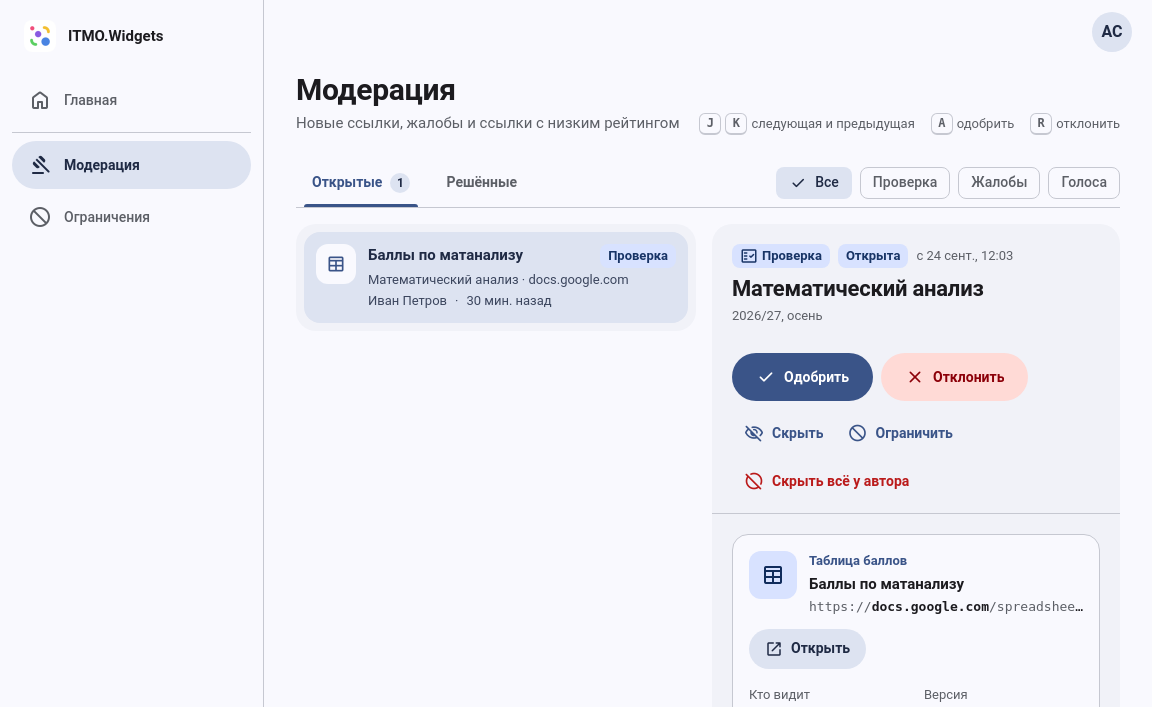
ModerationPage › rejects only with a reason
Click the button "Отклонить" at (955, 377), box [881, 353, 1028, 401]
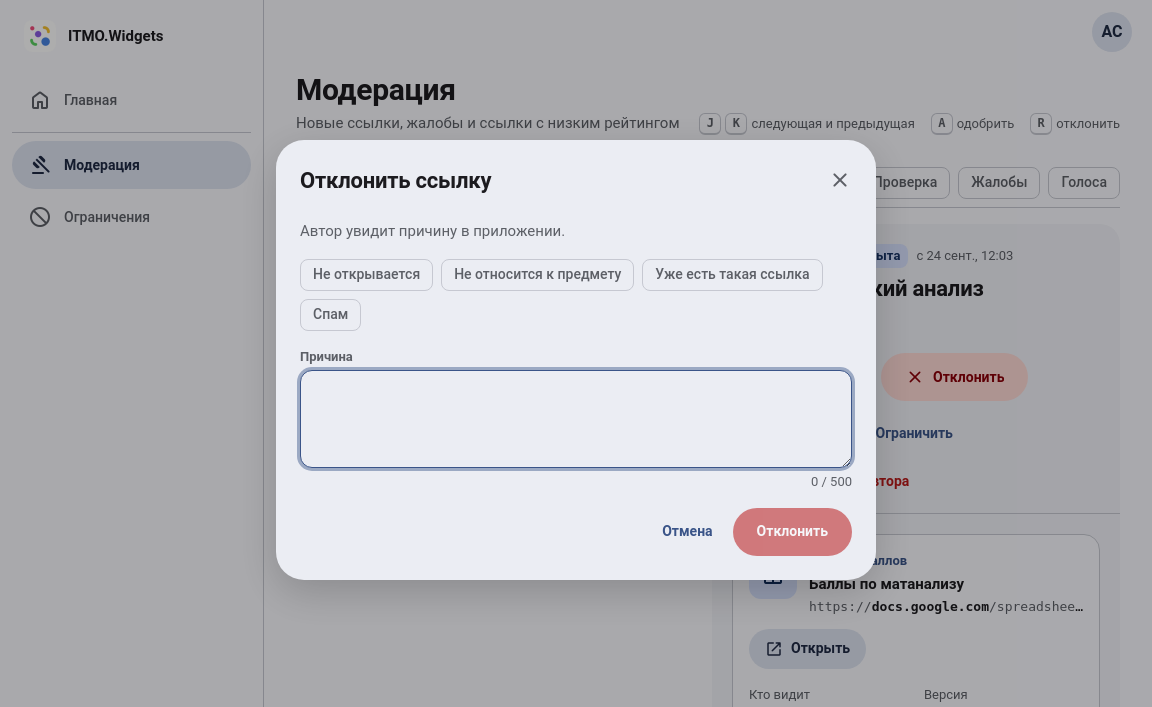
Check: the button "Отклонить" is disabled, box [733, 508, 852, 556]
Type "Нет доступа" into the text box labelled "Причина" at (576, 419), box [301, 371, 851, 467]
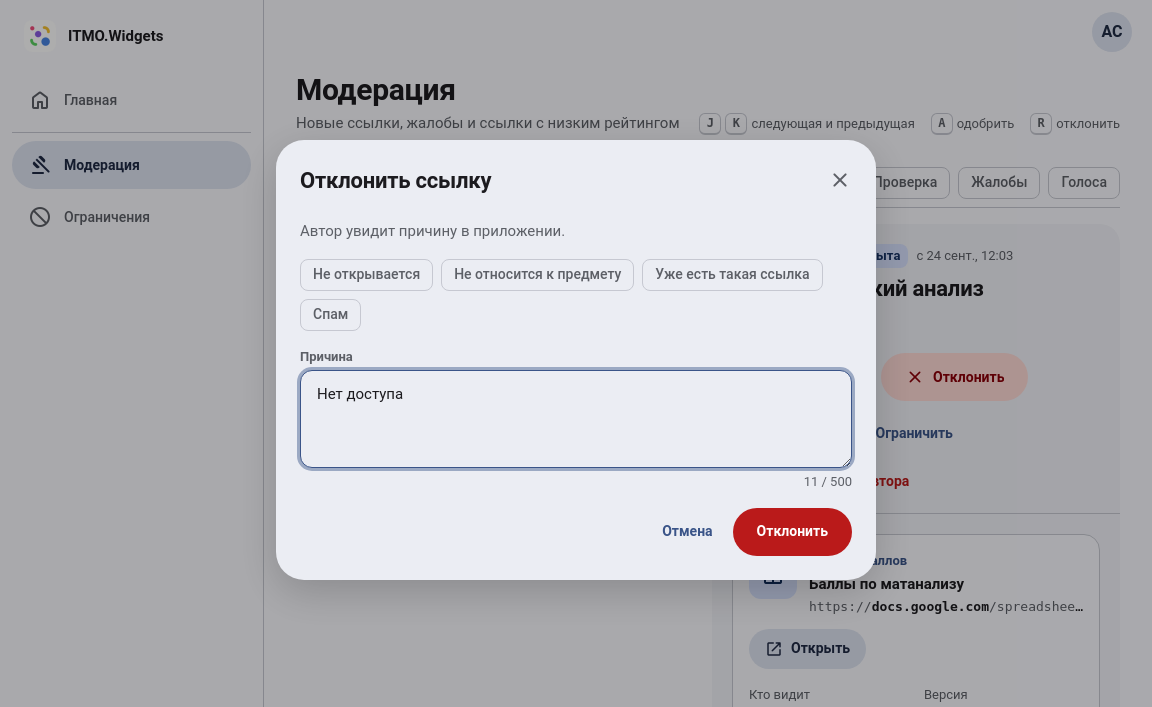
Click the button "Отклонить" at (792, 532), box [733, 508, 852, 556]
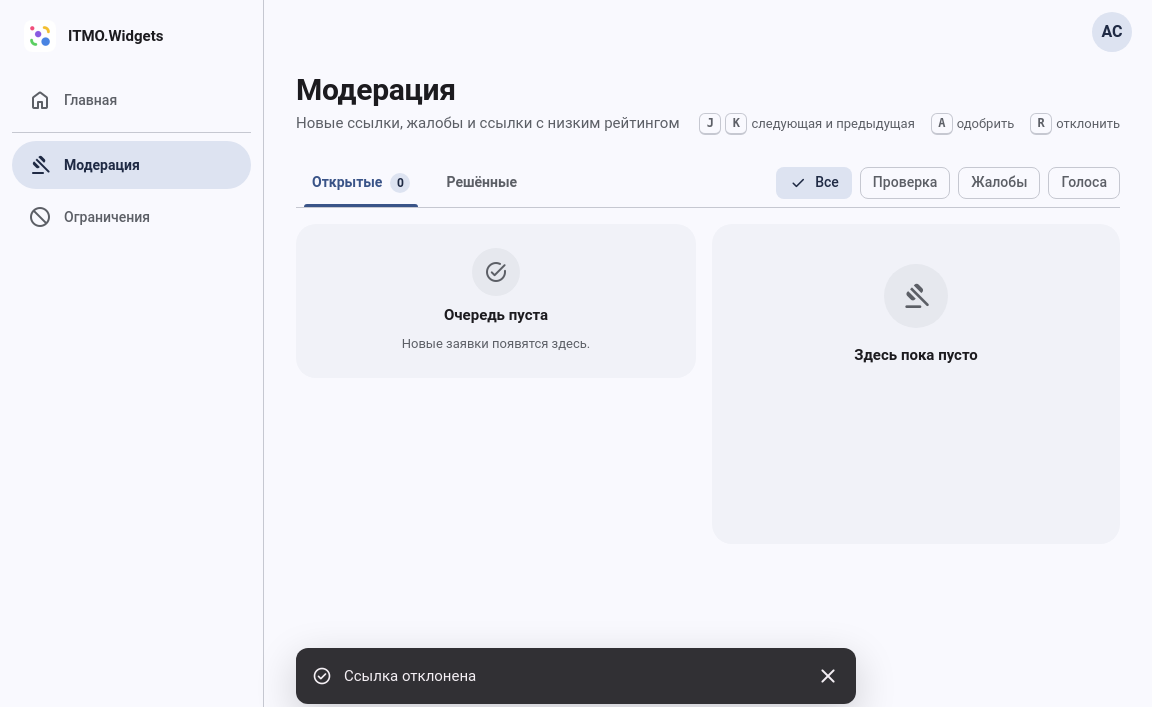
Check: the text "Ссылка отклонена" is shown, box [344, 667, 476, 685]
Check: the dialog is gone
